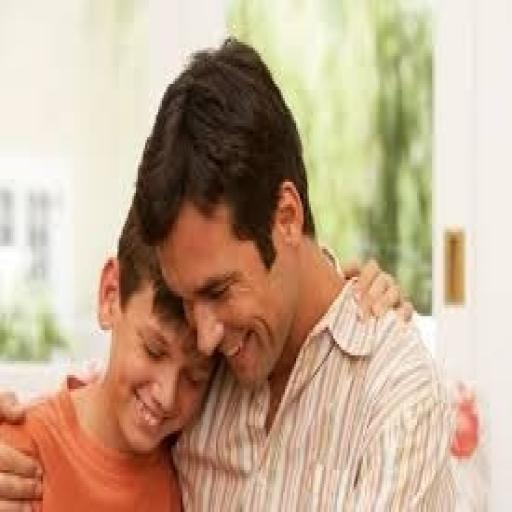hugging: (0, 34, 484, 509)
